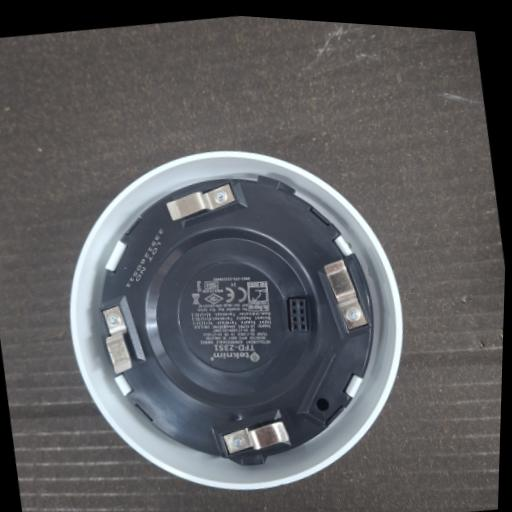yaysiz: (208, 406, 299, 473), (313, 249, 375, 345), (94, 290, 149, 377), (162, 176, 241, 228)
